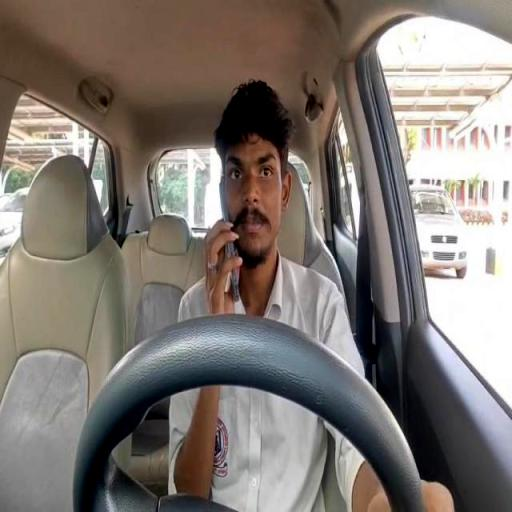Talking_on_phone: (200, 80, 295, 315)
